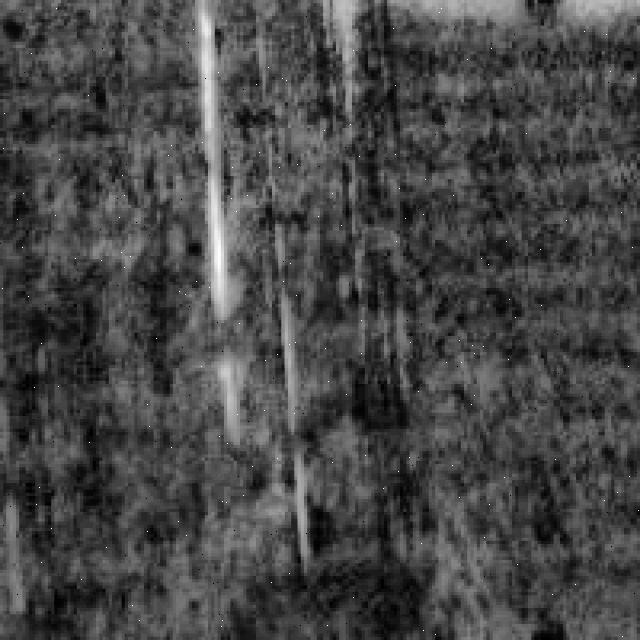Inclusion: (198, 0, 256, 426)
